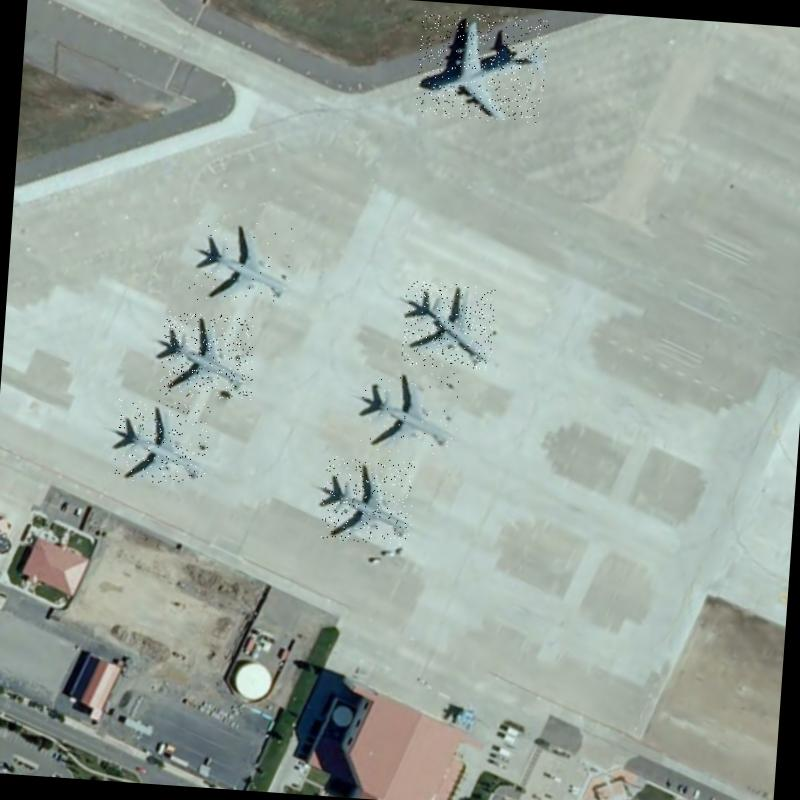A18: (188, 216, 296, 306), (357, 366, 460, 458), (112, 397, 210, 488), (159, 310, 257, 400), (319, 455, 416, 545), (401, 280, 496, 370)
A4: (415, 10, 549, 125)
